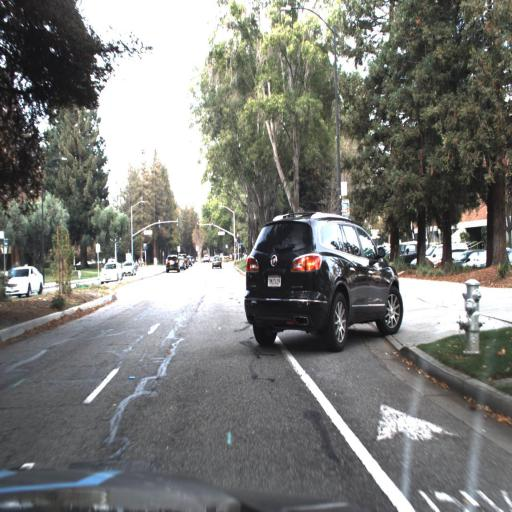car: (243, 205, 404, 350), (2, 266, 44, 300), (96, 260, 122, 284), (99, 261, 121, 283), (164, 251, 182, 274), (165, 255, 180, 275), (209, 251, 225, 269), (122, 259, 136, 279)
